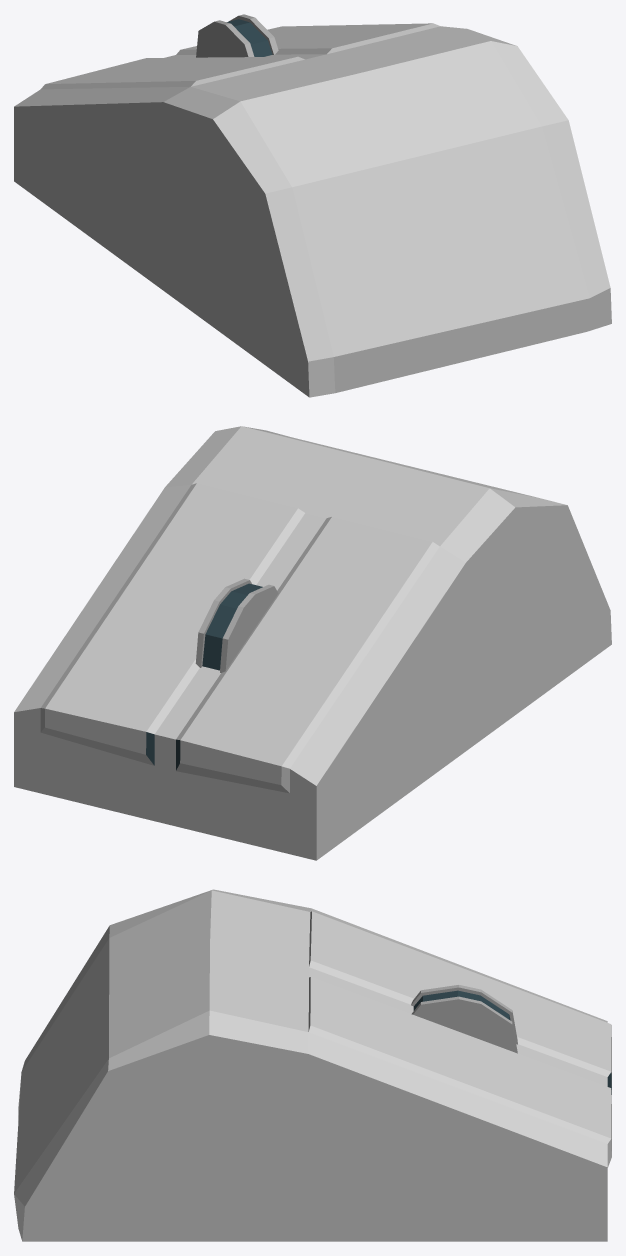
Rendered from MouseV1White.fbx.
3 views of the same model, one above another, from view 1: azimuth 30°, elevation 25°; view 2: azimuth 150°, elevation 25°; view 3: azimuth 270°, elevation 25° (orthographic).
Visible parts, largest first — view 1: MouseV1White; view 2: MouseV1White; view 3: MouseV1White.
Part boxes in pixels (box(x1,y1,x2,y2)): MouseV1White: box(14, 14, 611, 397); MouseV1White: box(14, 426, 611, 860); MouseV1White: box(14, 889, 611, 1241).
Bounding box in the file's own units: 3.64 × 2.53 × 6.29.
